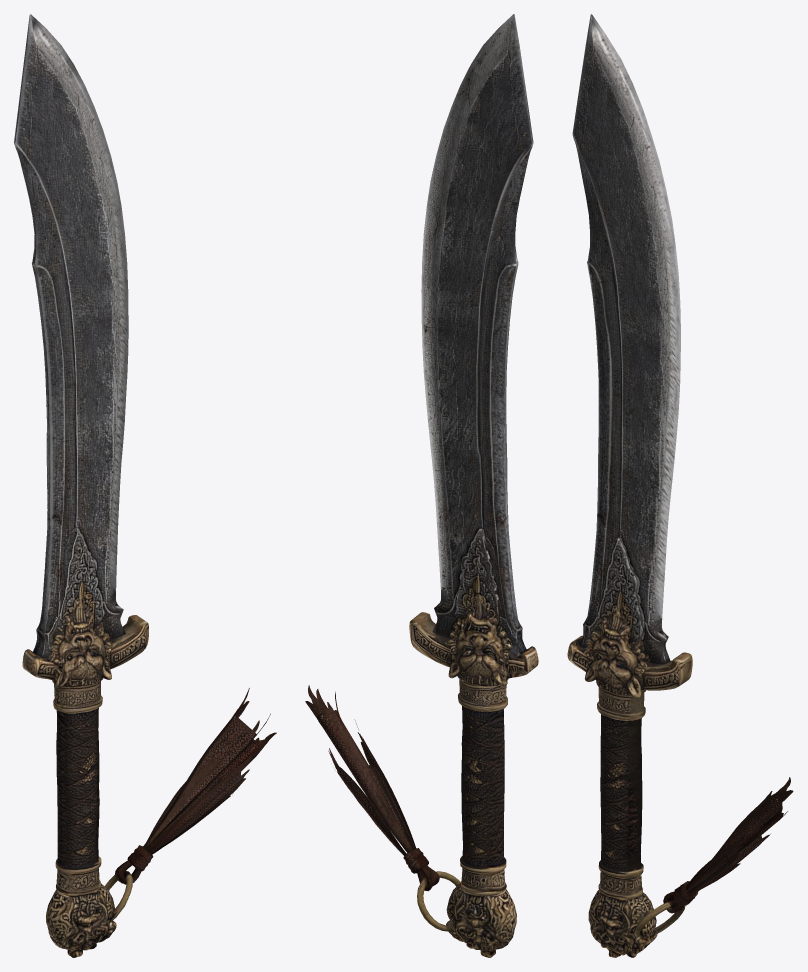
File: xuchu_saber.glb
The picture shows the model from 3 angles, left to right: view 1: azimuth 30°, elevation 25°; view 2: azimuth 150°, elevation 25°; view 3: azimuth 330°, elevation 25°; orthographic projection. The views are drawn at different scales.
Parts seen in each view (by area): view 1: tripo_node_e91bfef8-e359-43c7-addd-c8deac8c830d; view 2: tripo_node_e91bfef8-e359-43c7-addd-c8deac8c830d; view 3: tripo_node_e91bfef8-e359-43c7-addd-c8deac8c830d.
Boxes of the visible parts, <box> form: tripo_node_e91bfef8-e359-43c7-addd-c8deac8c830d: <box>14,14,276,957</box>; tripo_node_e91bfef8-e359-43c7-addd-c8deac8c830d: <box>305,14,538,957</box>; tripo_node_e91bfef8-e359-43c7-addd-c8deac8c830d: <box>567,14,793,957</box>.
Bounding box in the file's own units: 27.18 × 105 × 8.7.
1 material, 1 textured.
